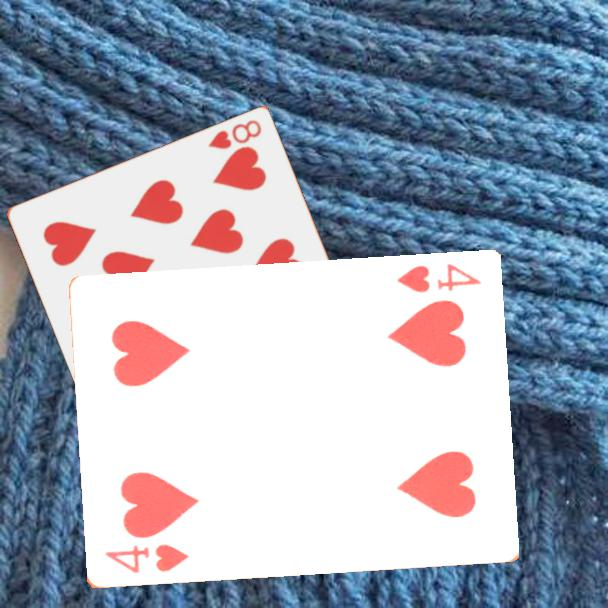h04: (393, 260, 484, 297), (101, 541, 191, 577)
h08: (205, 116, 265, 152)
